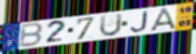2: (44, 19, 68, 46)
7: (75, 15, 97, 41)
A: (150, 7, 178, 33)
B: (18, 22, 45, 49)
J: (130, 10, 150, 33)
U: (98, 12, 124, 38)
